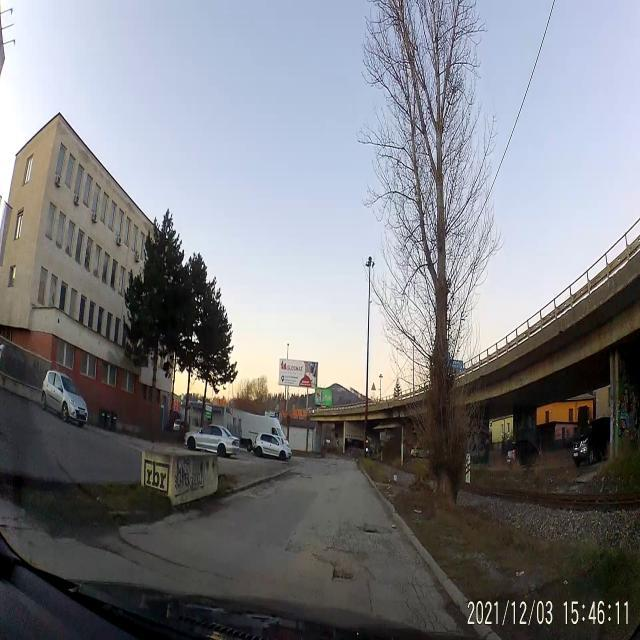Pothole: (328, 564, 356, 584), (358, 522, 386, 538)
